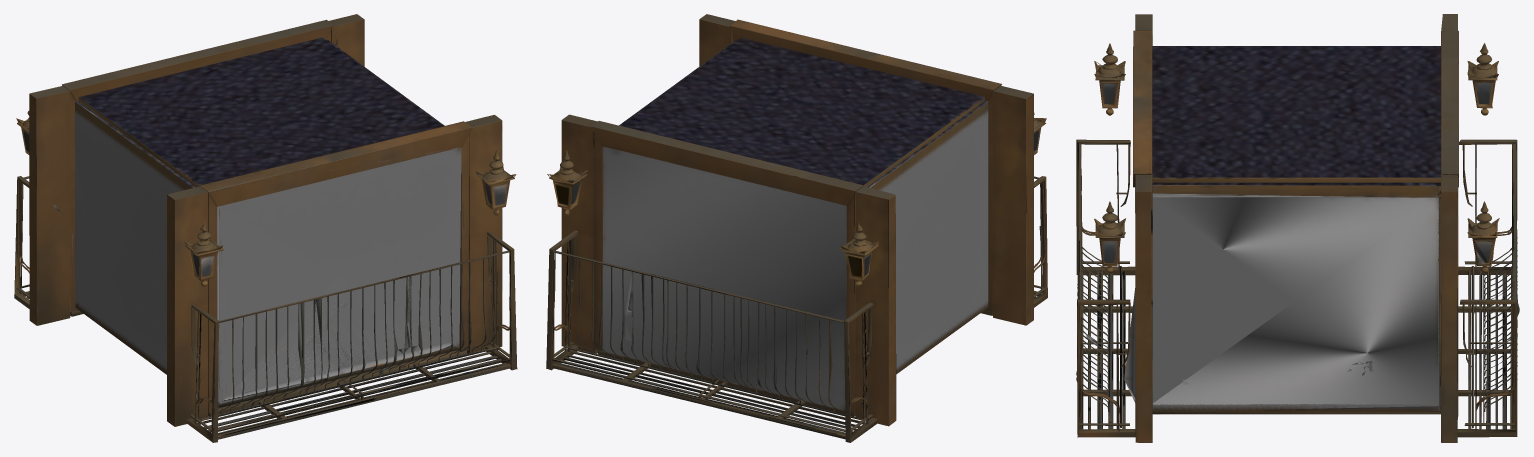
The model's file is balcony-2.glb.
3 views of the same model, side by side, from view 1: azimuth 30°, elevation 25°; view 2: azimuth 150°, elevation 25°; view 3: azimuth 270°, elevation 25° (orthographic). The views are drawn at different scales.
Parts seen in each view (by area): view 1: geometry_0; view 2: geometry_0; view 3: geometry_0.
Boxes of the visible parts, x1=… form: geometry_0: x1=14, y1=14, x2=517, y2=442; geometry_0: x1=546, y1=14, x2=1047, y2=442; geometry_0: x1=1076, y1=14, x2=1519, y2=442.
Bounding box in the file's own units: 0.9058 × 0.6035 × 0.957.
1 material, 1 textured.
